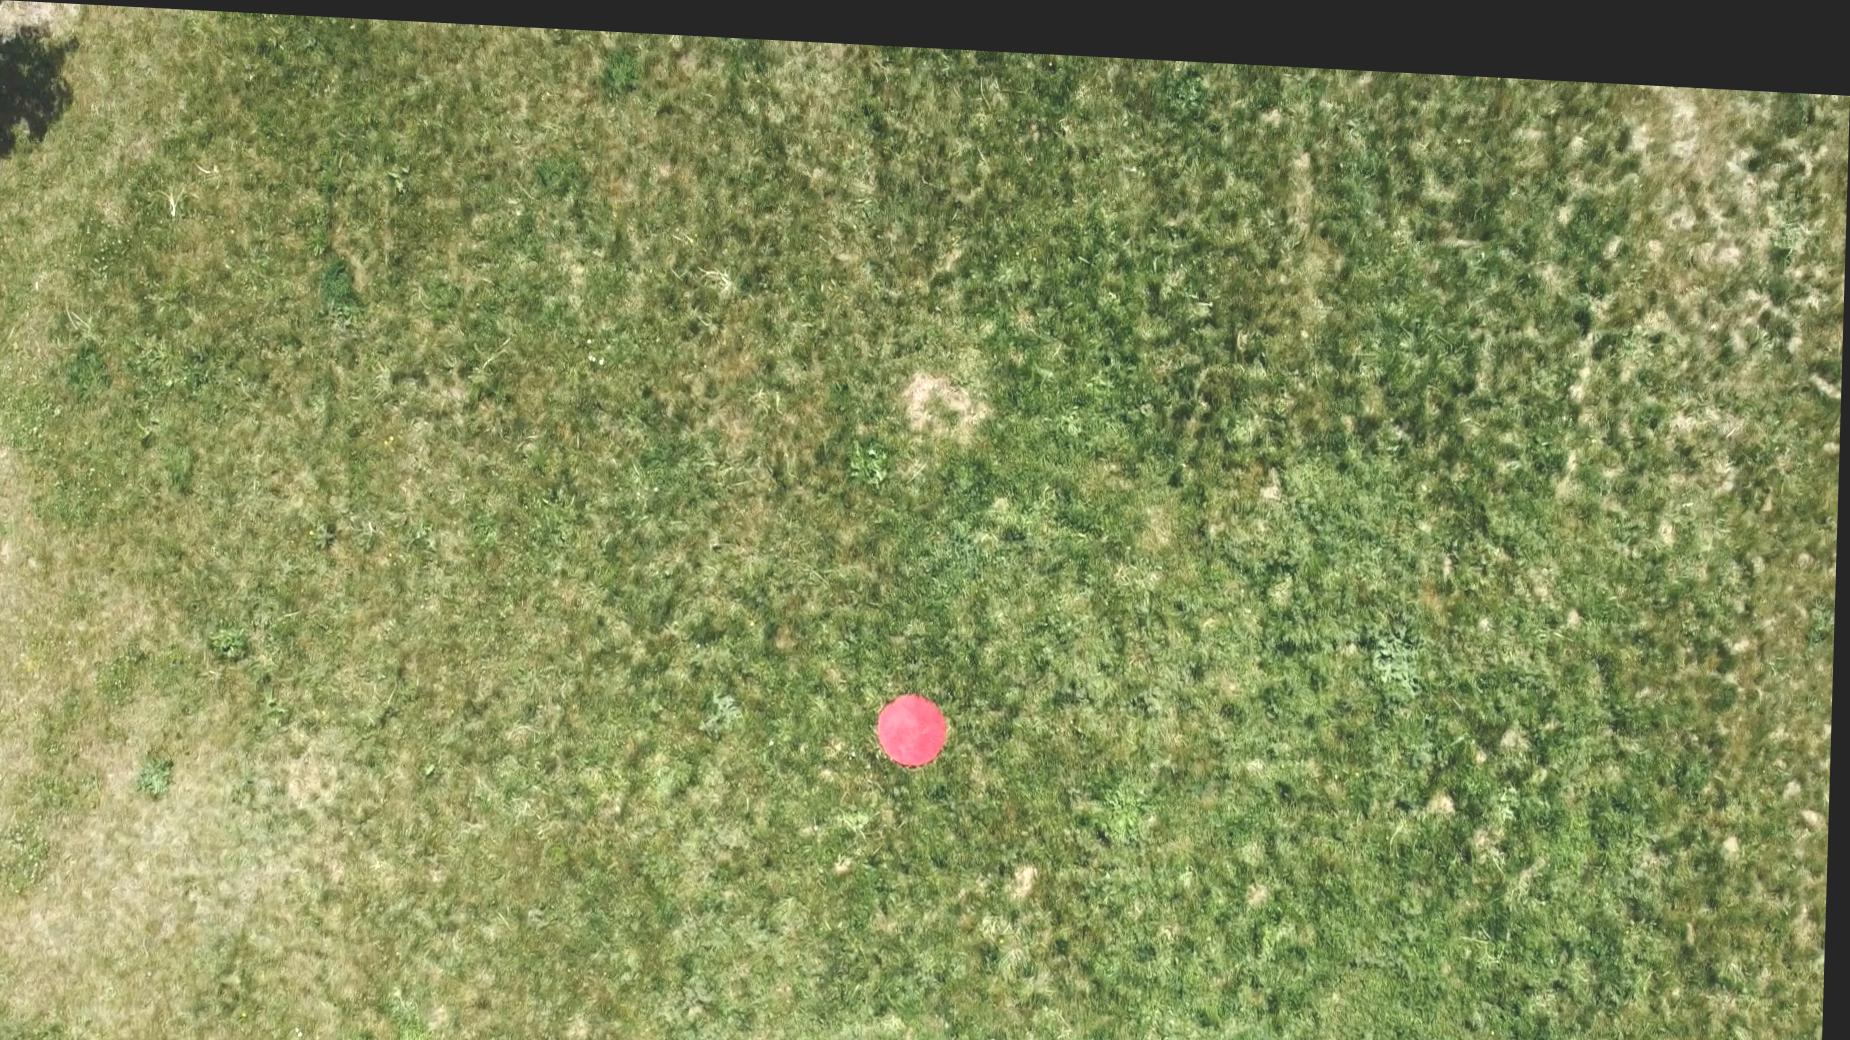Red: (878, 681, 952, 759)
